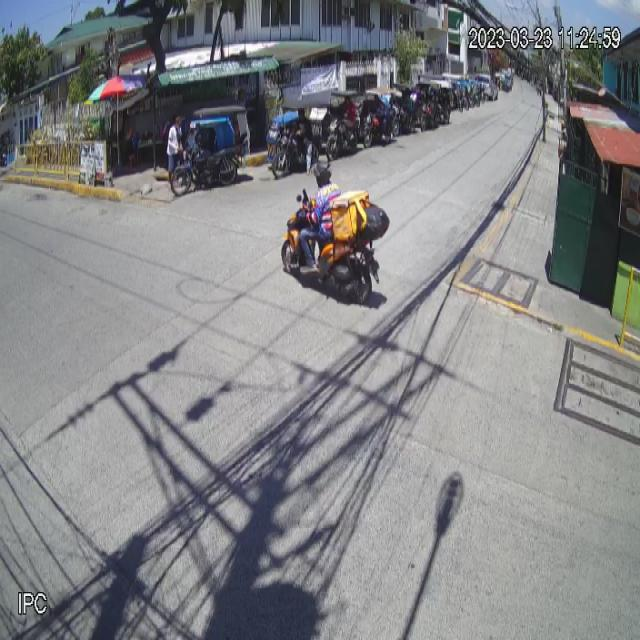Motorcycle: (280, 191, 392, 305)
Tricycle: (170, 104, 251, 198)
